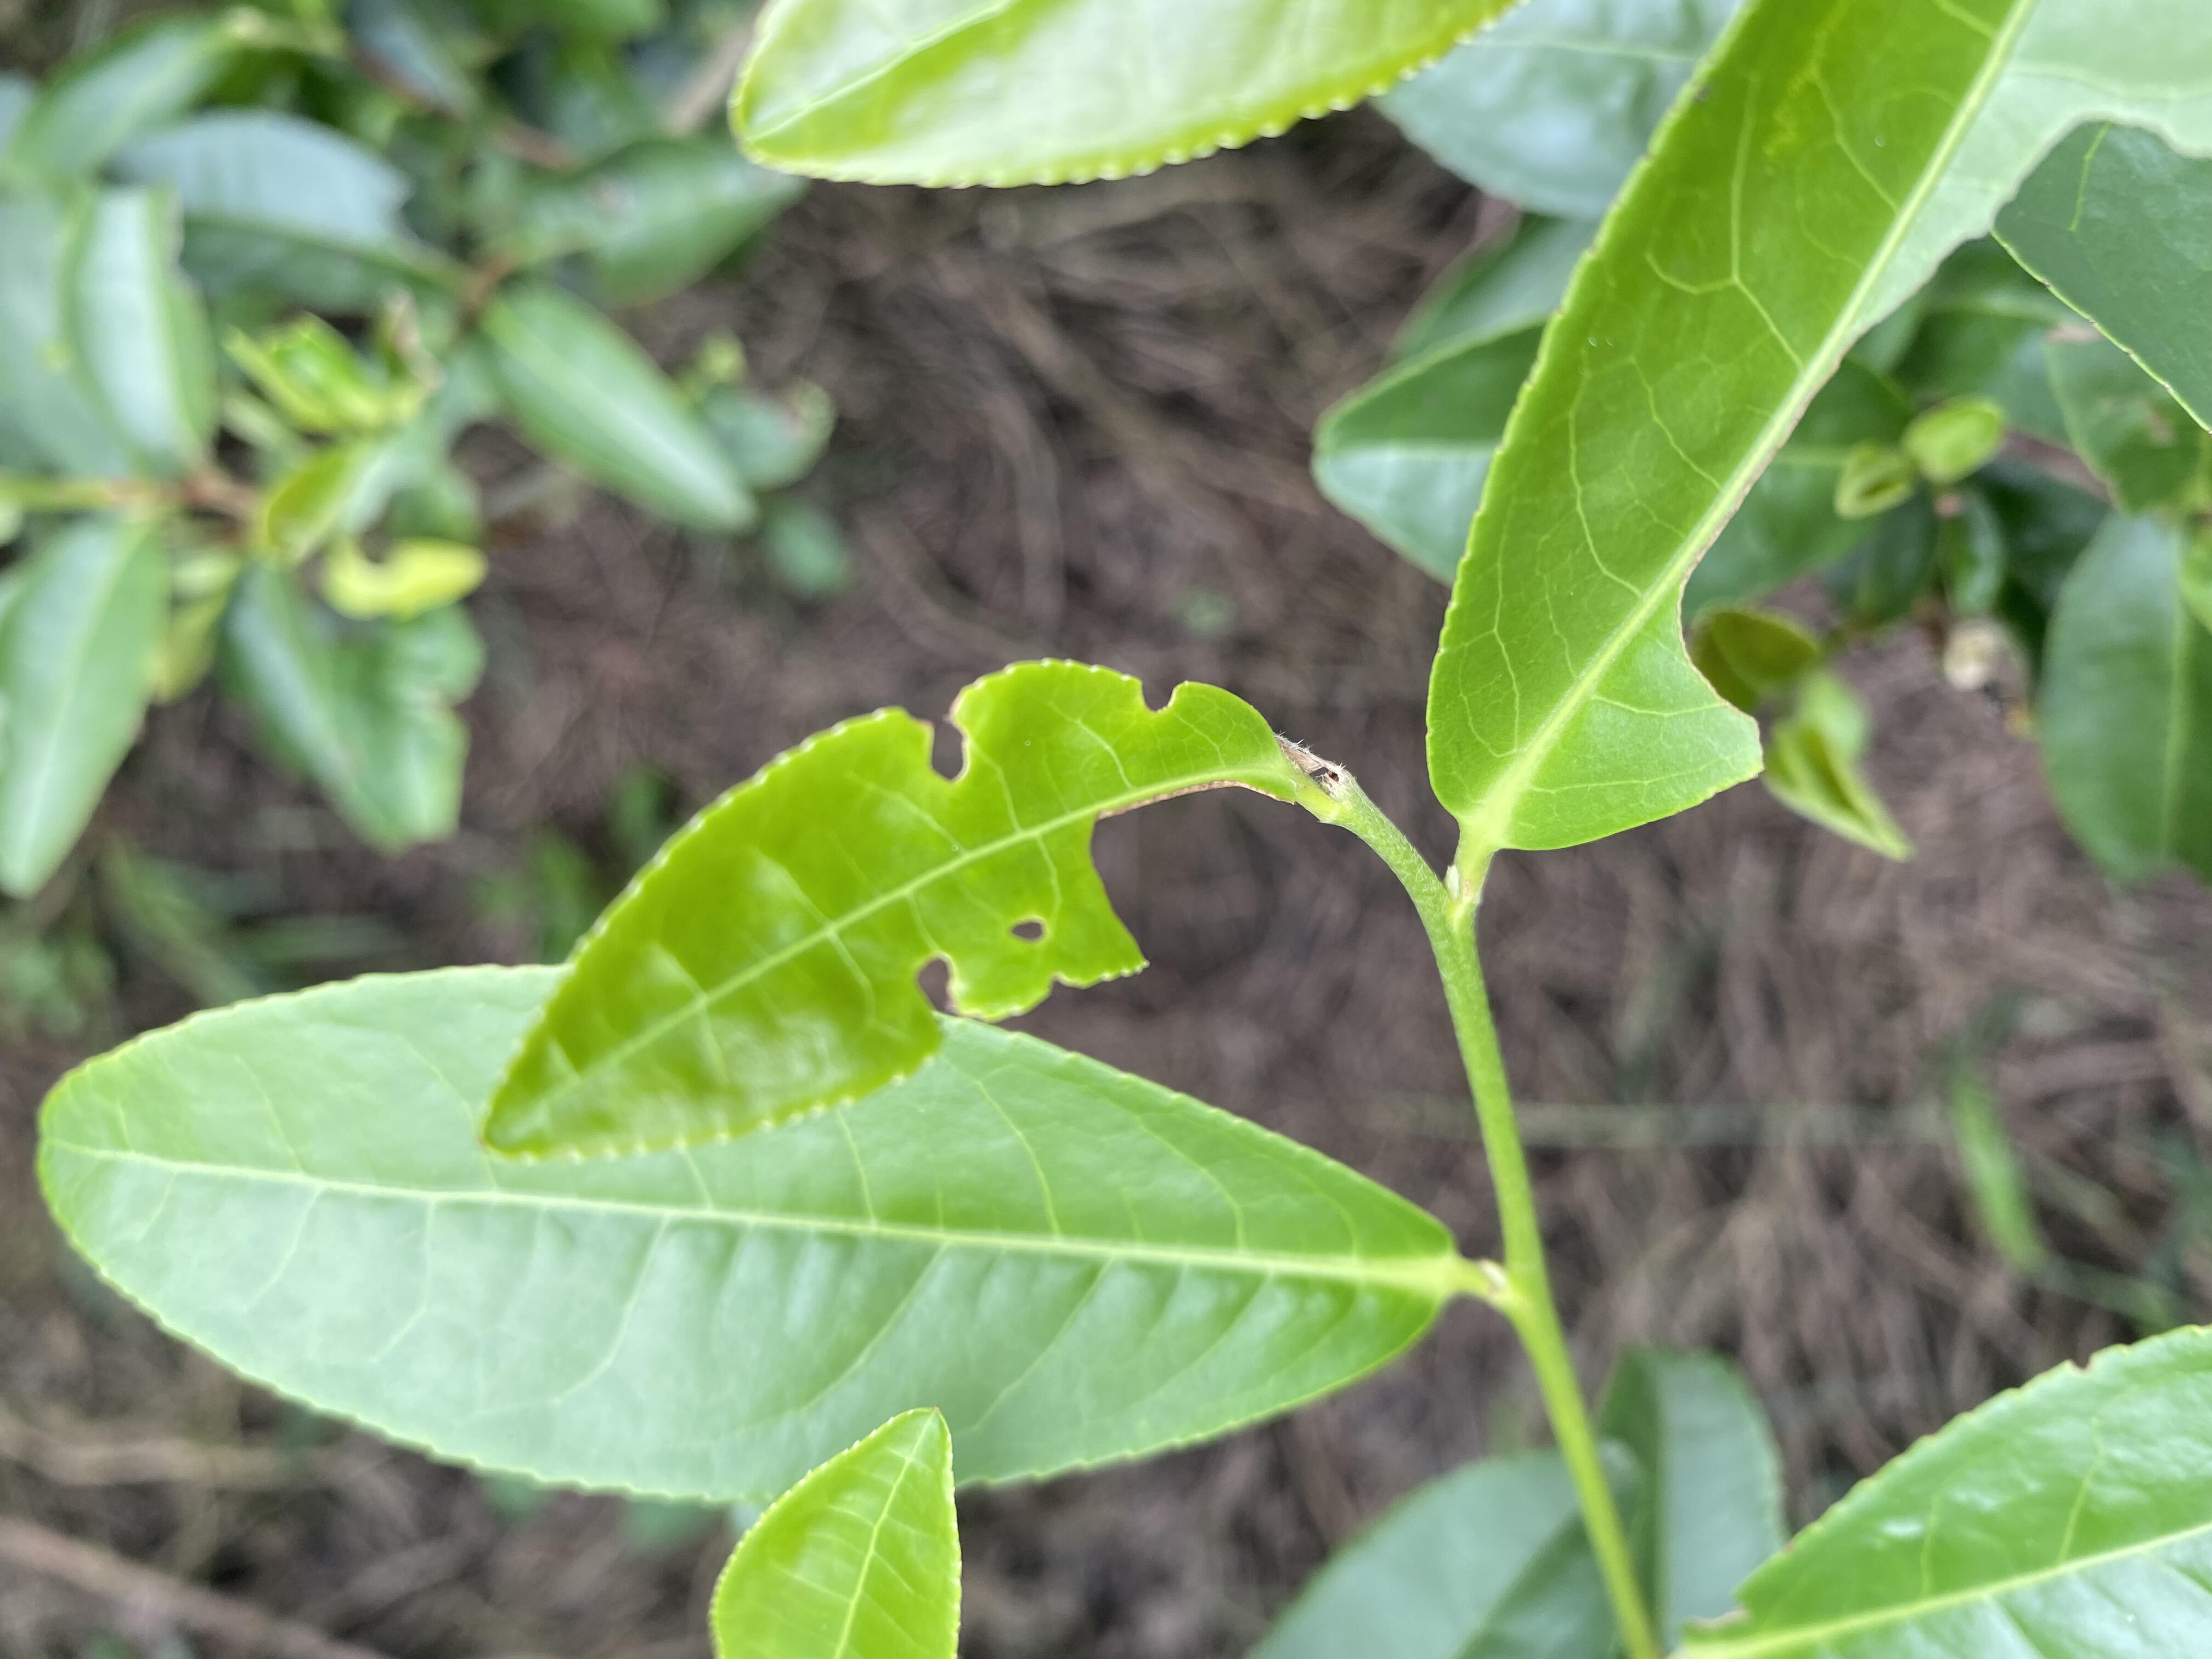chihuo_high: (1428, 3, 2209, 854), (475, 655, 1317, 1169)
healthy: (31, 958, 1470, 1507), (705, 1406, 967, 1656)
